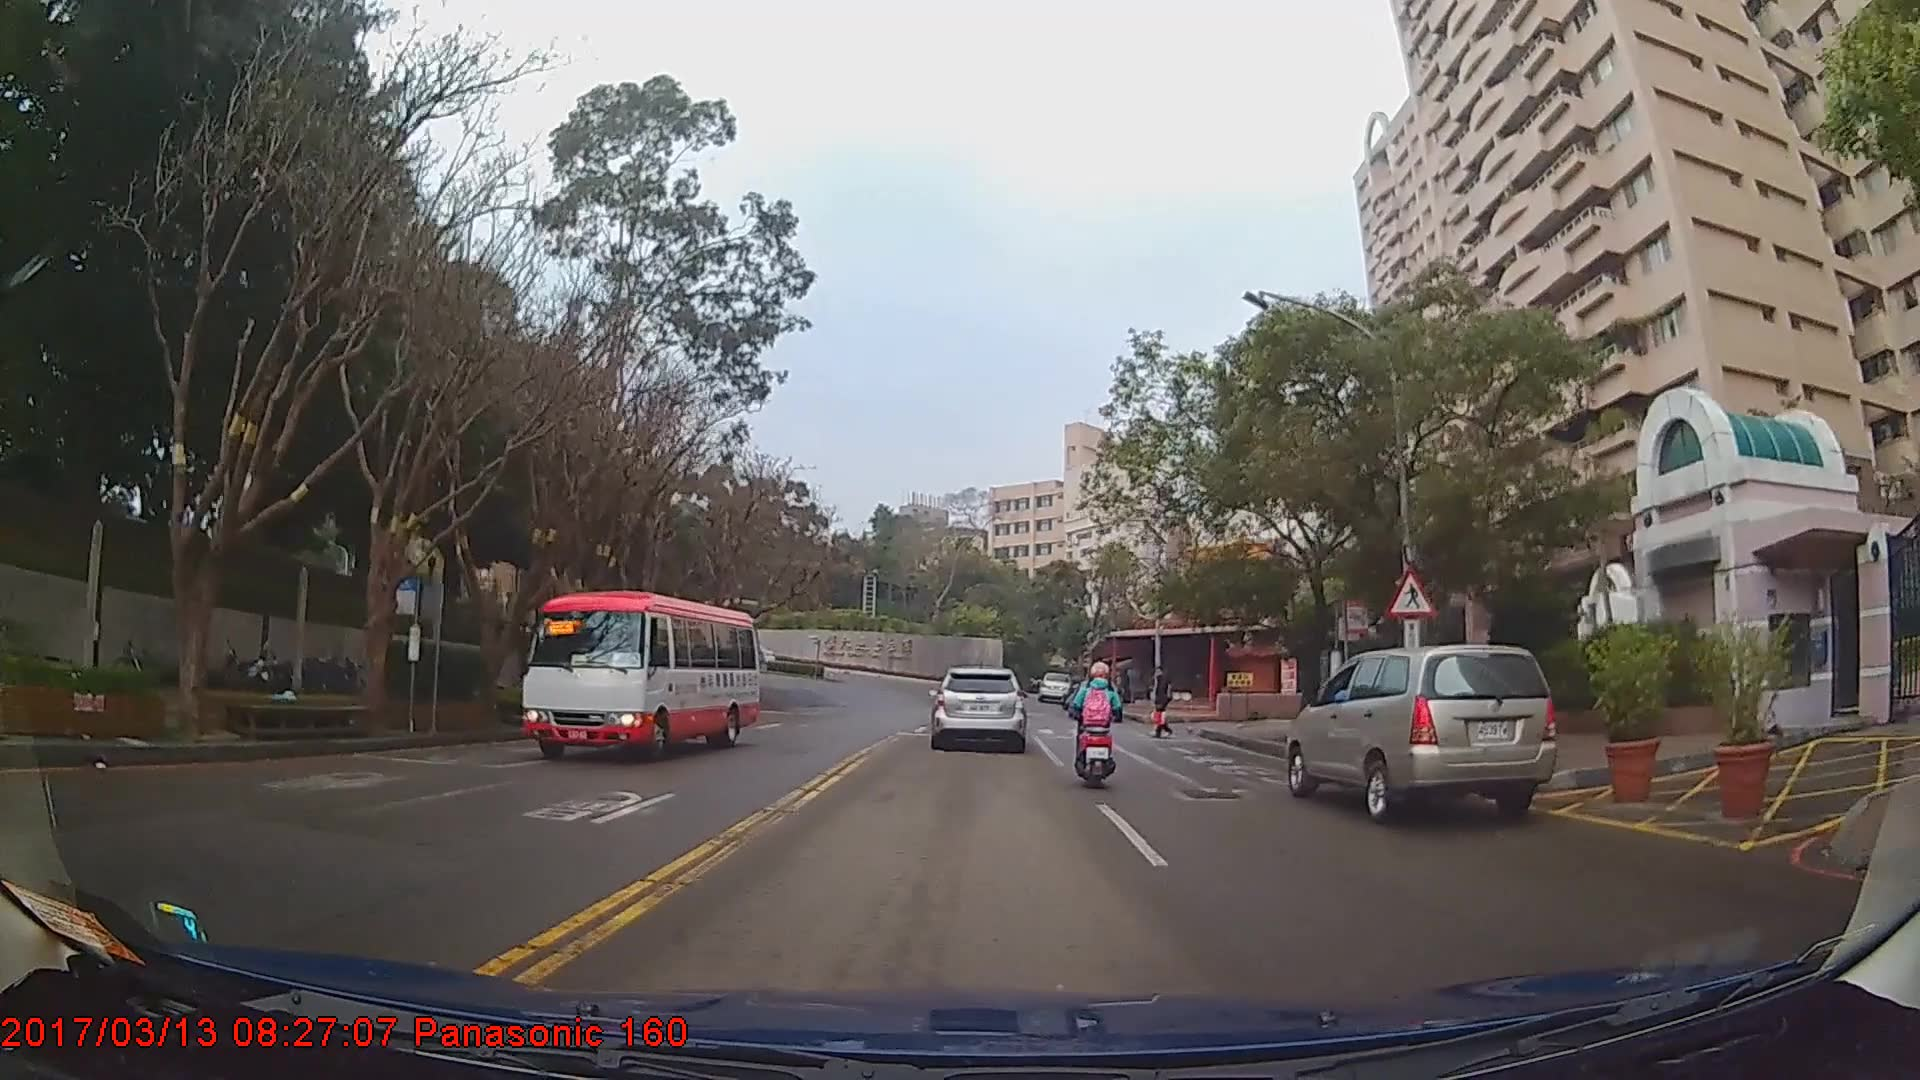pedestrian: (1150, 668, 1177, 746)
rider: (1068, 664, 1124, 794)
vehicle: (1286, 642, 1559, 823), (514, 590, 758, 762), (926, 667, 1027, 755), (1037, 672, 1071, 702)
